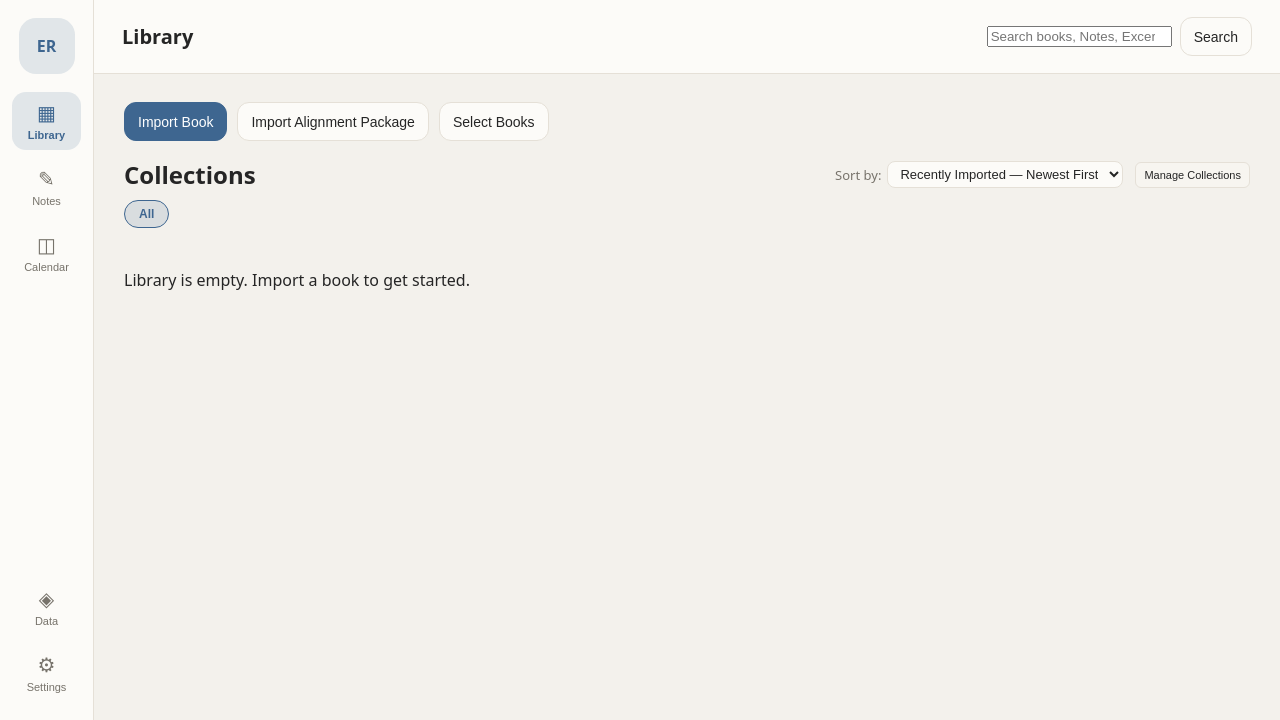
Test: Library › Duplicate Fingerprint (PRODUCT_SPEC.md 'Duplicate import'; FC-A03) › displays the user-renamed Library title rather than the incoming filename
Expected: the text "Library is empty. Import a book to get started." is shown, [124,269,470,291]
Click the button "Import Book".
click(176, 122)  # box [124,102,228,141]
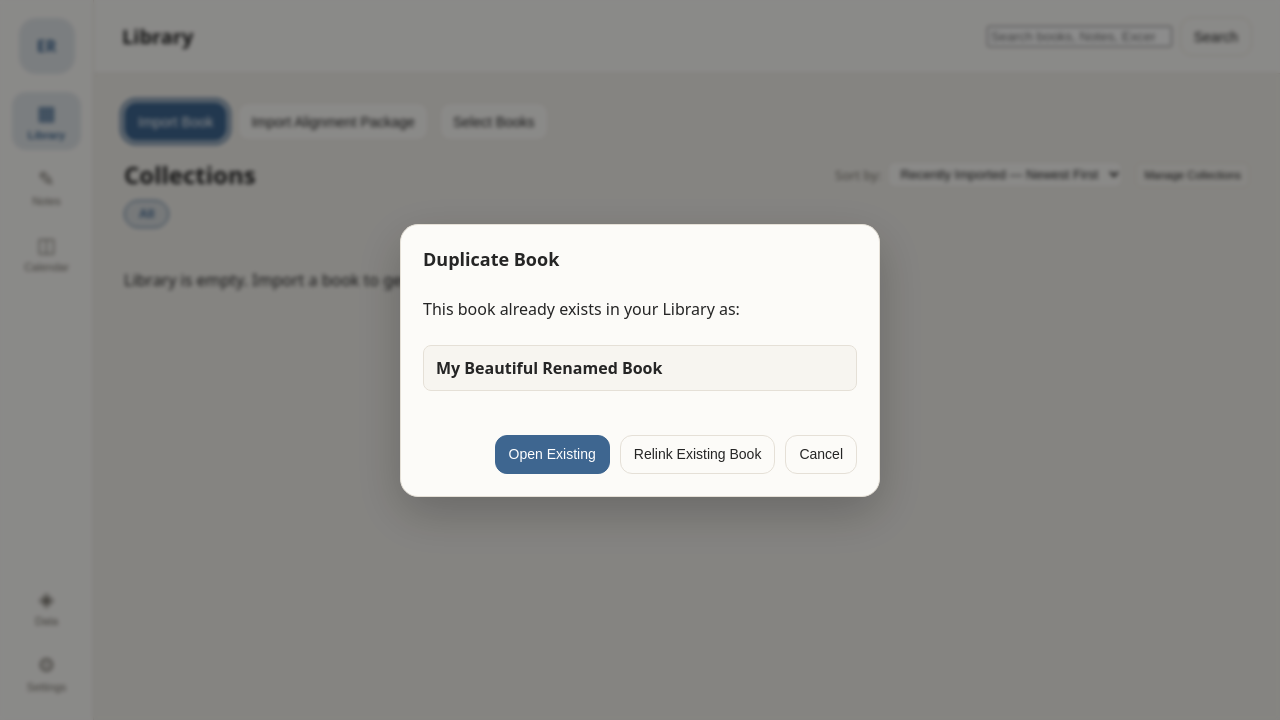
Expected: the text "This book already exists in your Library as:" is shown, [423,298,740,320]
Expected: the text "My Beautiful Renamed Book" is shown, [423,344,857,390]
